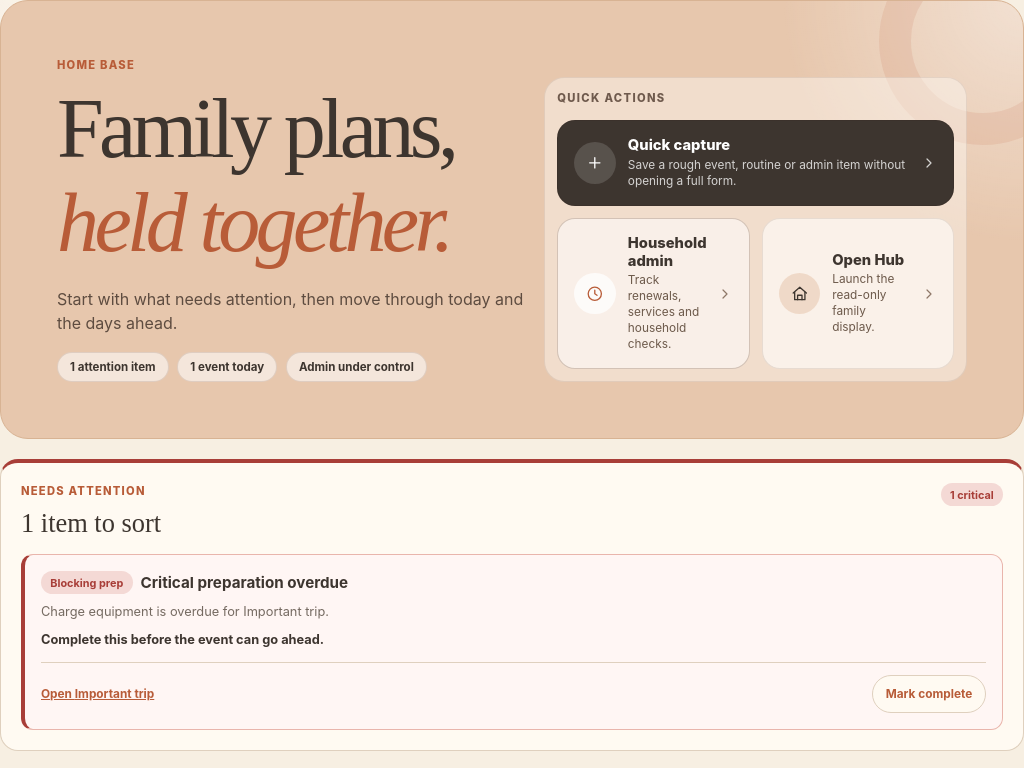
it: Dashboard operational readiness › surfaces critical overdue prep and removes it when completed
Check: the heading "Critical preparation overdue" is shown, box [141,574,348,591]
What coordinates should you click on to do the following:
click the button "Mark complete"
I would click on:
 (929, 694)
Its box is [872,675,986,713].
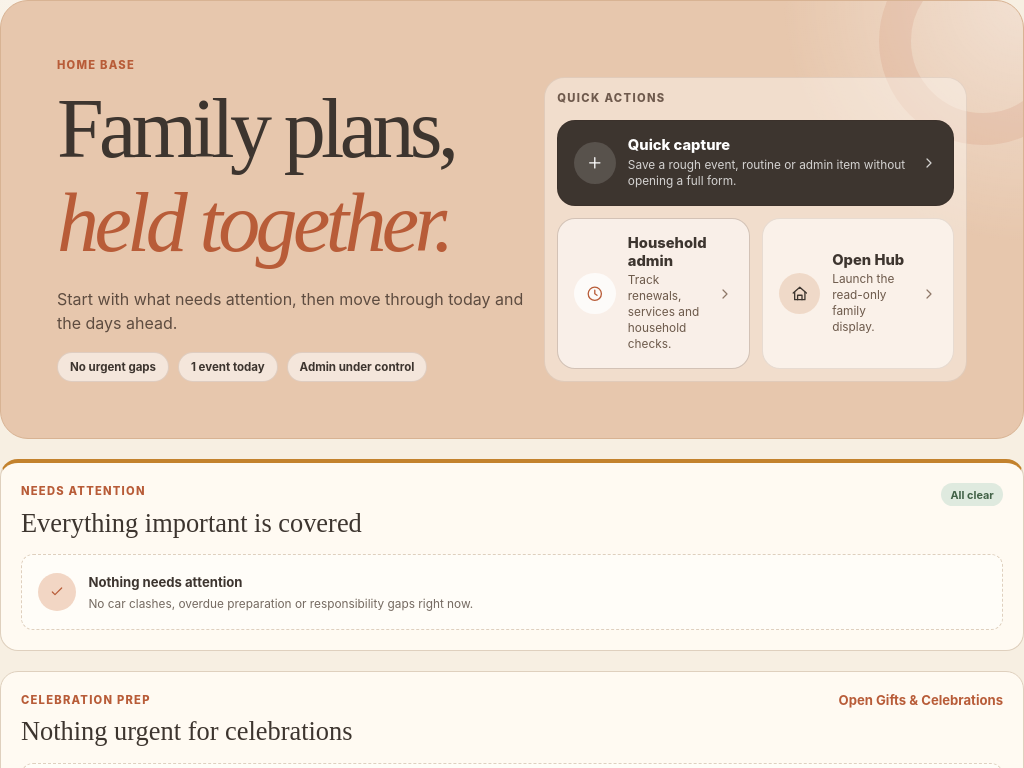
Check: the heading "Critical preparation overdue" is gone
Check: the text "Nothing needs attention" is shown, box [88,574,242,590]
